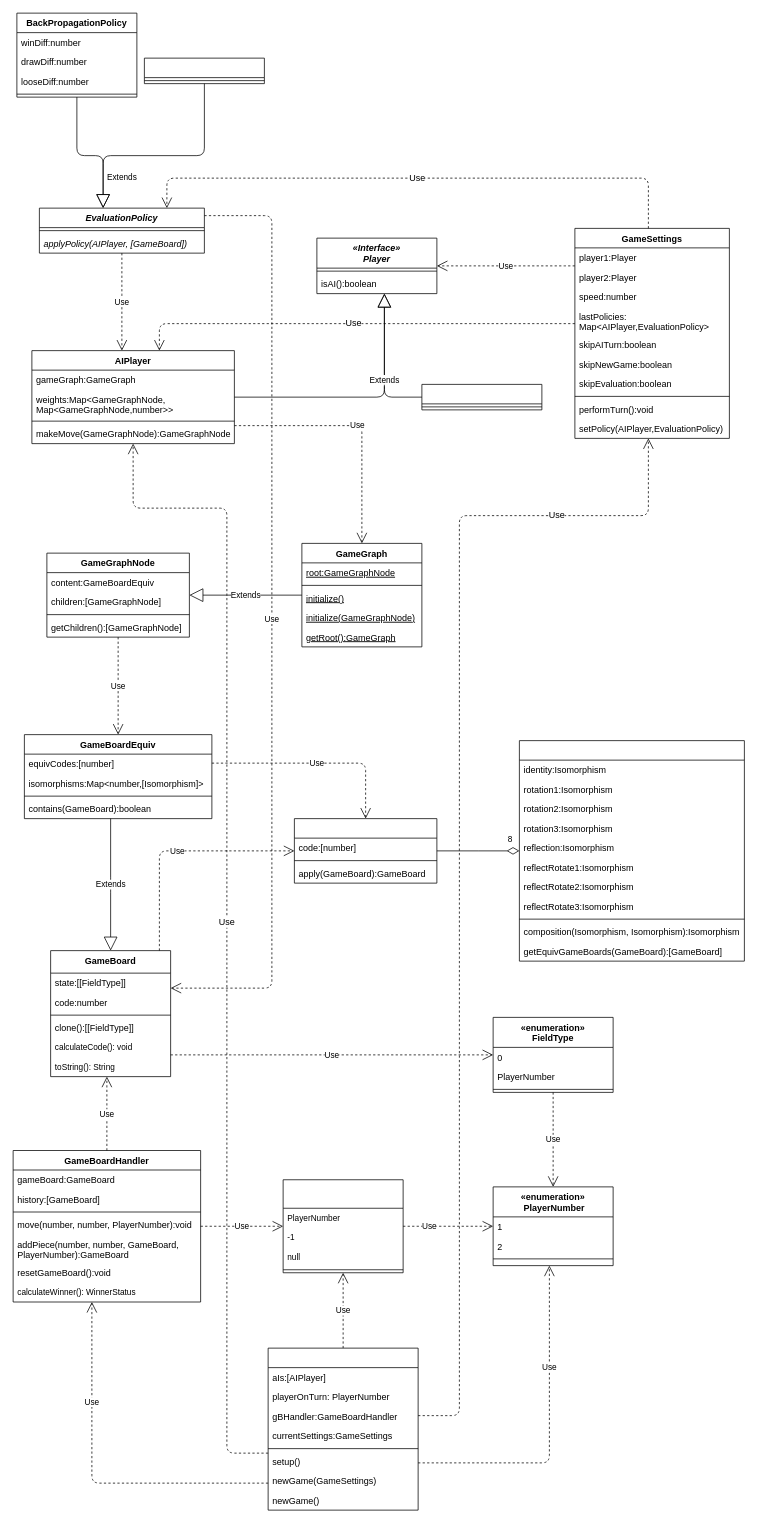
The diagram is 758 pixels wide and 1526 high, and some of its shapes have lost their labels. Here are the shapes that lost their labels. From the top down, the box of each, then its label:
(144, 57, 264, 84): EliminationPolicy
(421, 384, 542, 410): UserPlayer
(294, 818, 437, 883): Isomorphism
(519, 740, 744, 961): IsomorphismGroup
(282, 1179, 403, 1273): «enumeration» WinnerStatus
(267, 1347, 418, 1510): GameHandler
